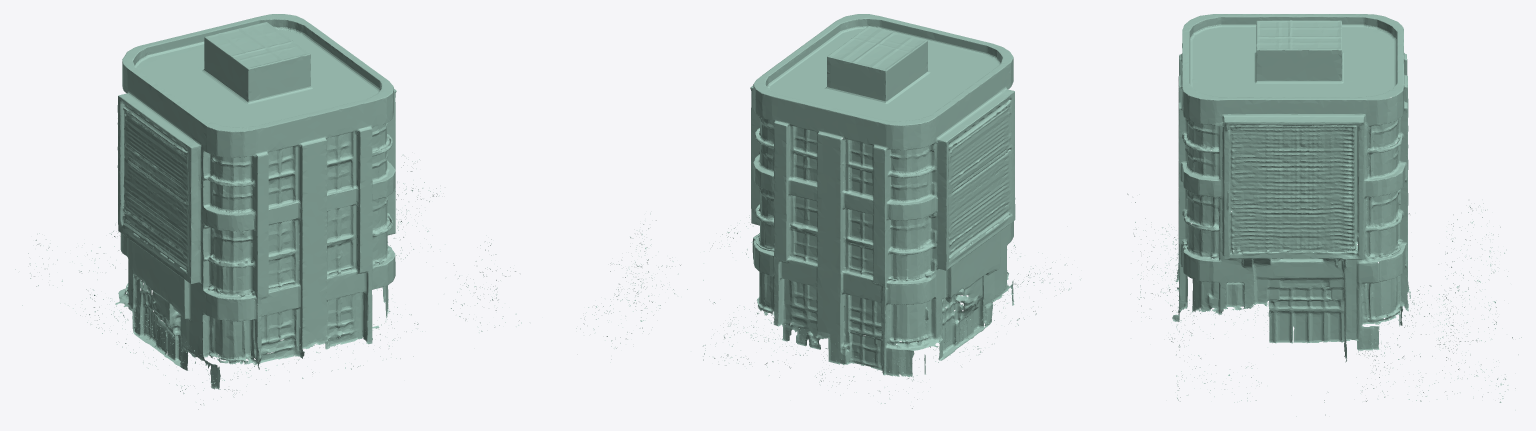
The model's file is modern-block-05-building-0.glb.
3 views of the same model, side by side, from view 1: azimuth 30°, elevation 25°; view 2: azimuth 150°, elevation 25°; view 3: azimuth 270°, elevation 25° (orthographic). The views are drawn at different scales.
Visible parts, largest first — view 1: building_0; view 2: building_0; view 3: building_0.
Part boxes in pixels (left/top/right/bottom): building_0: left=15, top=14, right=521, bottom=409; building_0: left=576, top=14, right=1081, bottom=408; building_0: left=1127, top=14, right=1521, bottom=416.
Size of the model in its own units: 0.7498 by 0.5621 by 0.7169.
